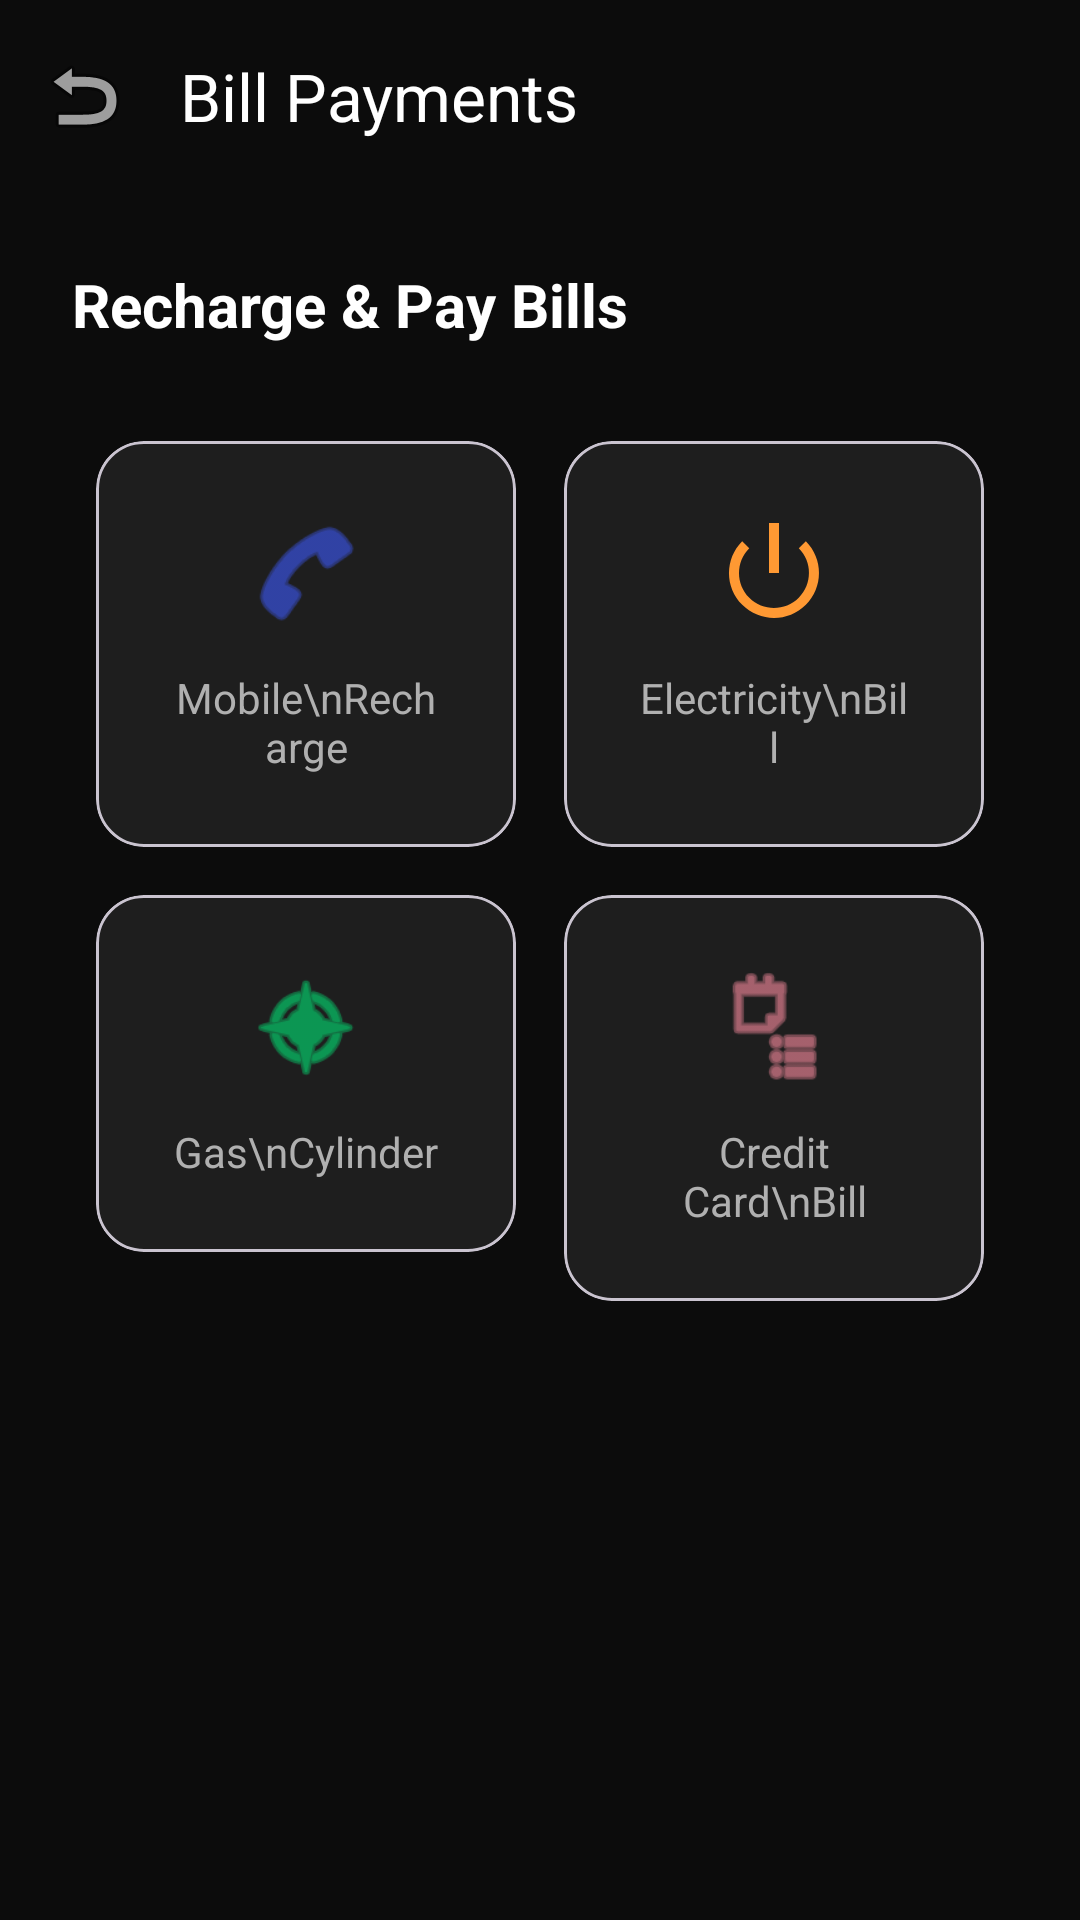

Screen size 1080px x 1920px. Icon name, then its box in pixels as bbox(x1, y1, x2, y2):
agenda: bbox(732, 973, 817, 1080)
call: bbox(260, 527, 354, 621)
compass: bbox(258, 980, 353, 1075)
lock power off: bbox(729, 523, 819, 618)
